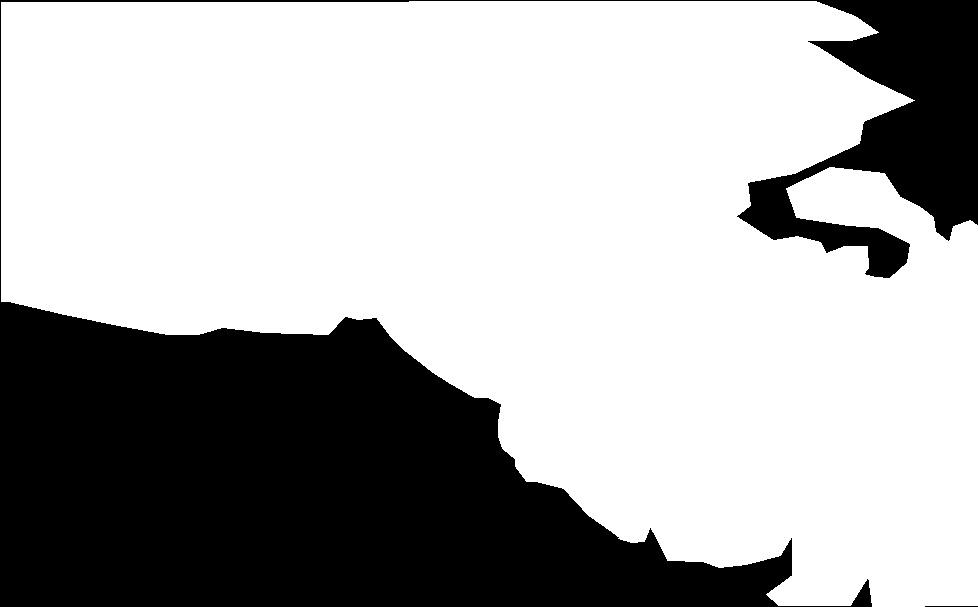Fire: (264, 4, 681, 549)
